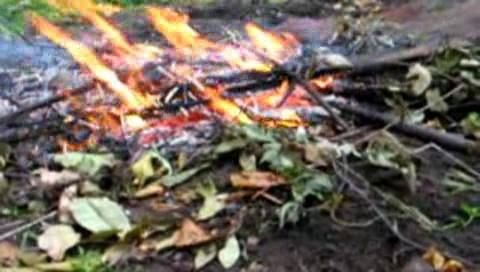fire: (66, 10, 303, 123)
